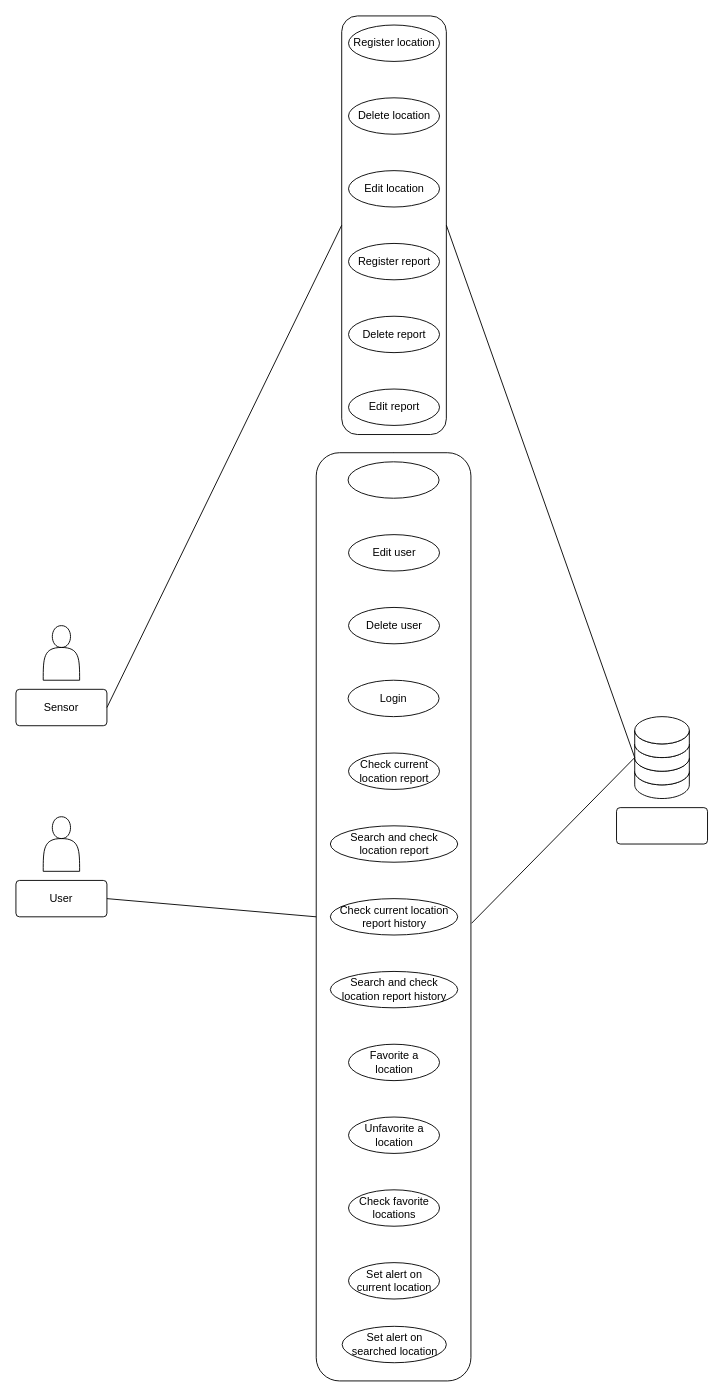
This 723x1397 diagram has some shape labels left out. The box of each missing label's shape, as (x1, y1, x2, y2) in pixels:
Database: (616, 807, 708, 844)
Register user: (347, 461, 439, 498)
